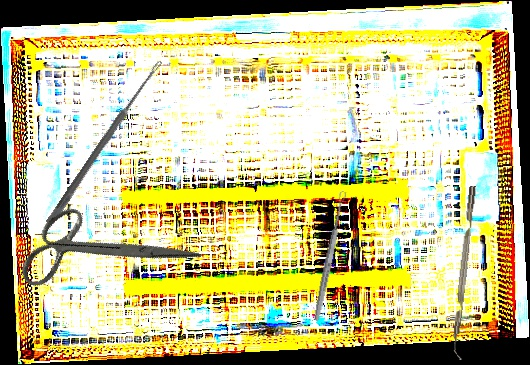Chopper: (448, 185, 485, 361)
Iris Scissors: (4, 160, 202, 341)
Surgical Spoon: (45, 58, 164, 227), (312, 190, 348, 322)
